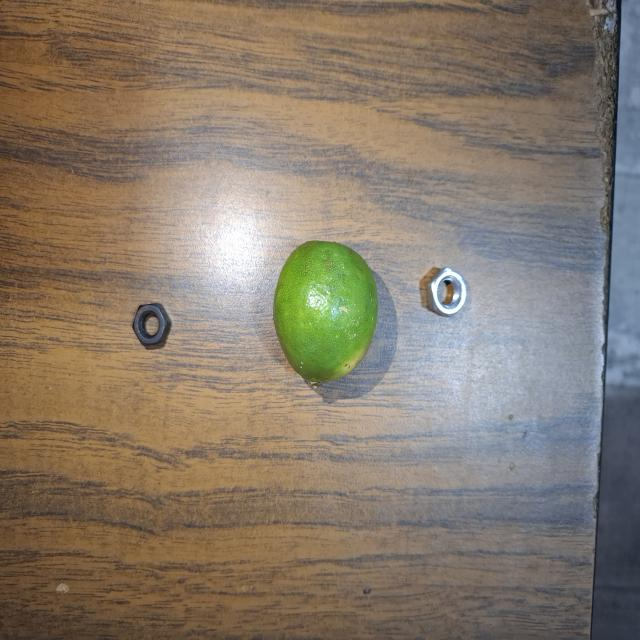limon: (269, 231, 383, 399)
milimetrico: (128, 300, 185, 360)
tuerca: (422, 262, 479, 327)
